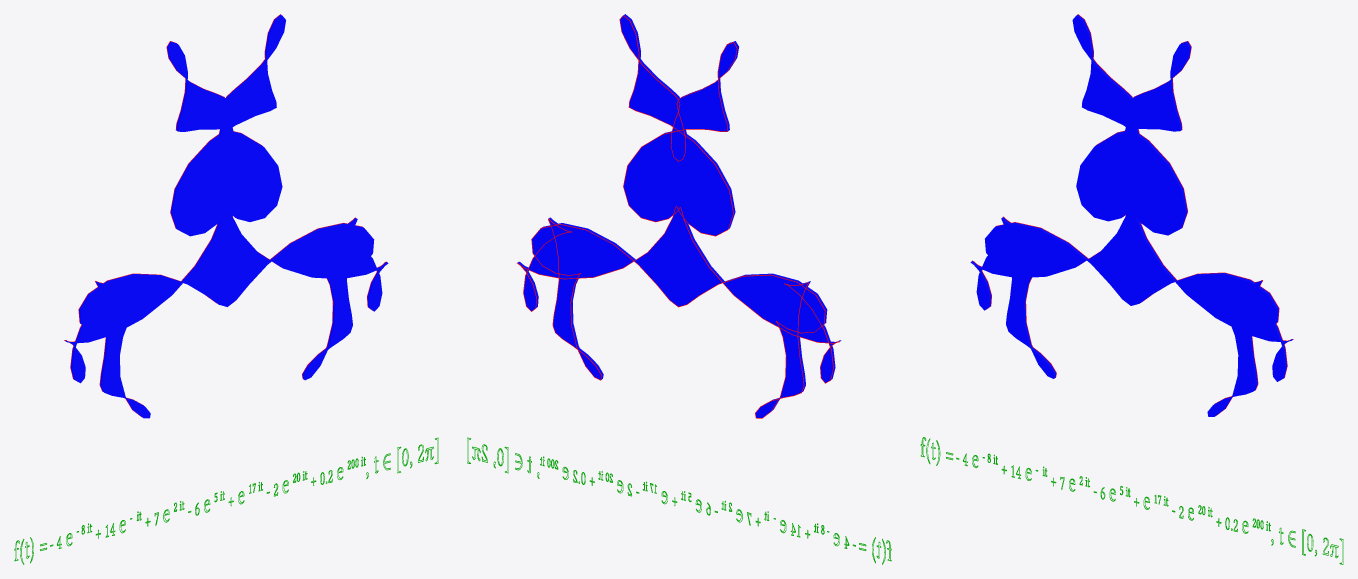
File: SimpleBeauty75.glb
The picture shows the model from 3 angles, left to right: view 1: azimuth 30°, elevation 25°; view 2: azimuth 150°, elevation 25°; view 3: azimuth 330°, elevation 25°; orthographic projection.
Size of the model in its own units: 1.2 by 1.32 by 0.0109.
